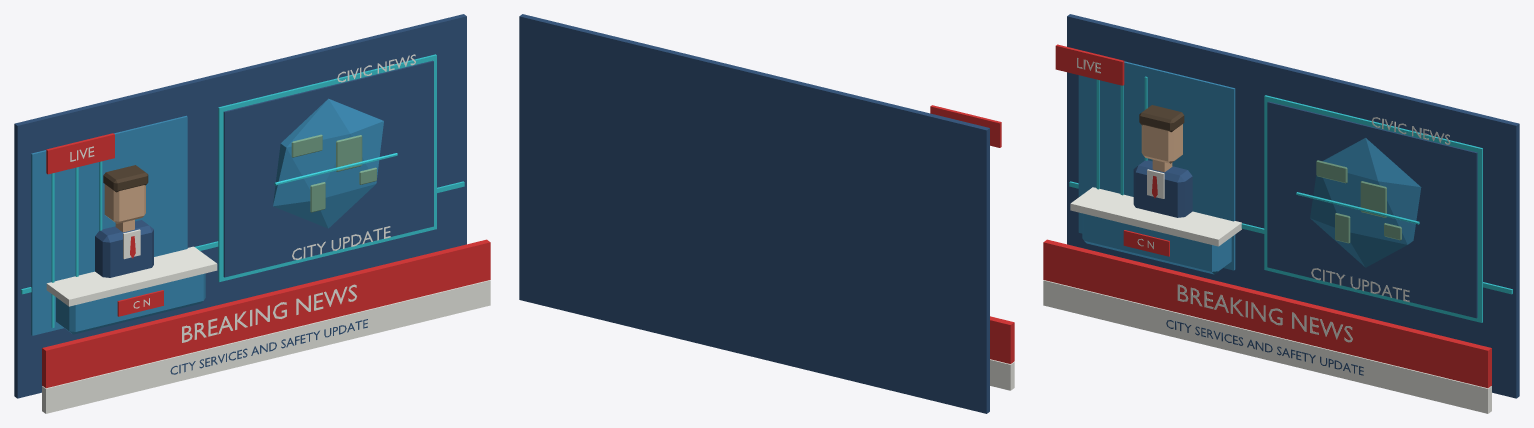
Rendered from News_Background_General.fbx.
3 renders of one model, left to right at view 1: azimuth 30°, elevation 25°; view 2: azimuth 150°, elevation 25°; view 3: azimuth 330°, elevation 25°, orthographic. The views are drawn at different scales.
Visible parts, largest first — view 1: Screen Background.012, Story Window.012, Breaking Lower Third.012, Studio Left Panel.012, Hint Strip.012, World Map Globe.003, Desk Top.012, Desk.012, Story Border.012, Anchor Jacket.012, Live Badge.012, Anchor Head.012 (+11 smaller); view 2: Screen Background.012, Breaking Lower Third.012, Live Badge.012, Hint Strip.012; view 3: Screen Background.012, Story Window.012, Breaking Lower Third.012, Studio Left Panel.012, Hint Strip.012, World Map Globe.003, Desk Top.012, Story Border.012, Desk.012, Anchor Jacket.012, Live Badge.012, Breaking News Text.012 (+11 smaller).
Boxes of the visible parts, x1,y1,x2,y2 form: Screen Background.012: (14,14,466,398); Story Window.012: (223,60,433,277); Breaking Lower Third.012: (42,239,490,388); Studio Left Panel.012: (31,115,187,335); Hint Strip.012: (42,280,490,413); World Map Globe.003: (273,98,383,228); Desk Top.012: (46,246,217,306); Desk.012: (56,273,205,334); Story Border.012: (218,54,436,281); Anchor Jacket.012: (95,220,153,277); Live Badge.012: (46,133,114,174); Anchor Head.012: (104,184,145,223); Screen Background.012: (519,14,989,413); Breaking Lower Third.012: (990,316,1014,363); Live Badge.012: (930,105,1001,147); Hint Strip.012: (990,359,1014,390); Screen Background.012: (1067,14,1519,398); Story Window.012: (1267,101,1477,318); Breaking Lower Third.012: (1043,239,1491,388); Studio Left Panel.012: (1078,61,1235,270); Hint Strip.012: (1043,280,1491,413); World Map Globe.003: (1310,138,1421,267); Desk Top.012: (1070,187,1241,246); Story Border.012: (1264,95,1482,322); Desk.012: (1082,213,1231,274); Anchor Jacket.012: (1133,160,1192,217); Live Badge.012: (1055,44,1124,85); Breaking News Text.012: (1177,284,1352,342).
Size of the model in its own units: 376 by 218 by 43.53.
